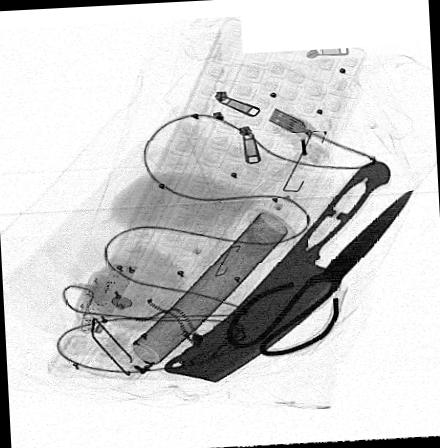Knife: (162, 160, 390, 383)
Scissors: (223, 188, 413, 357)
